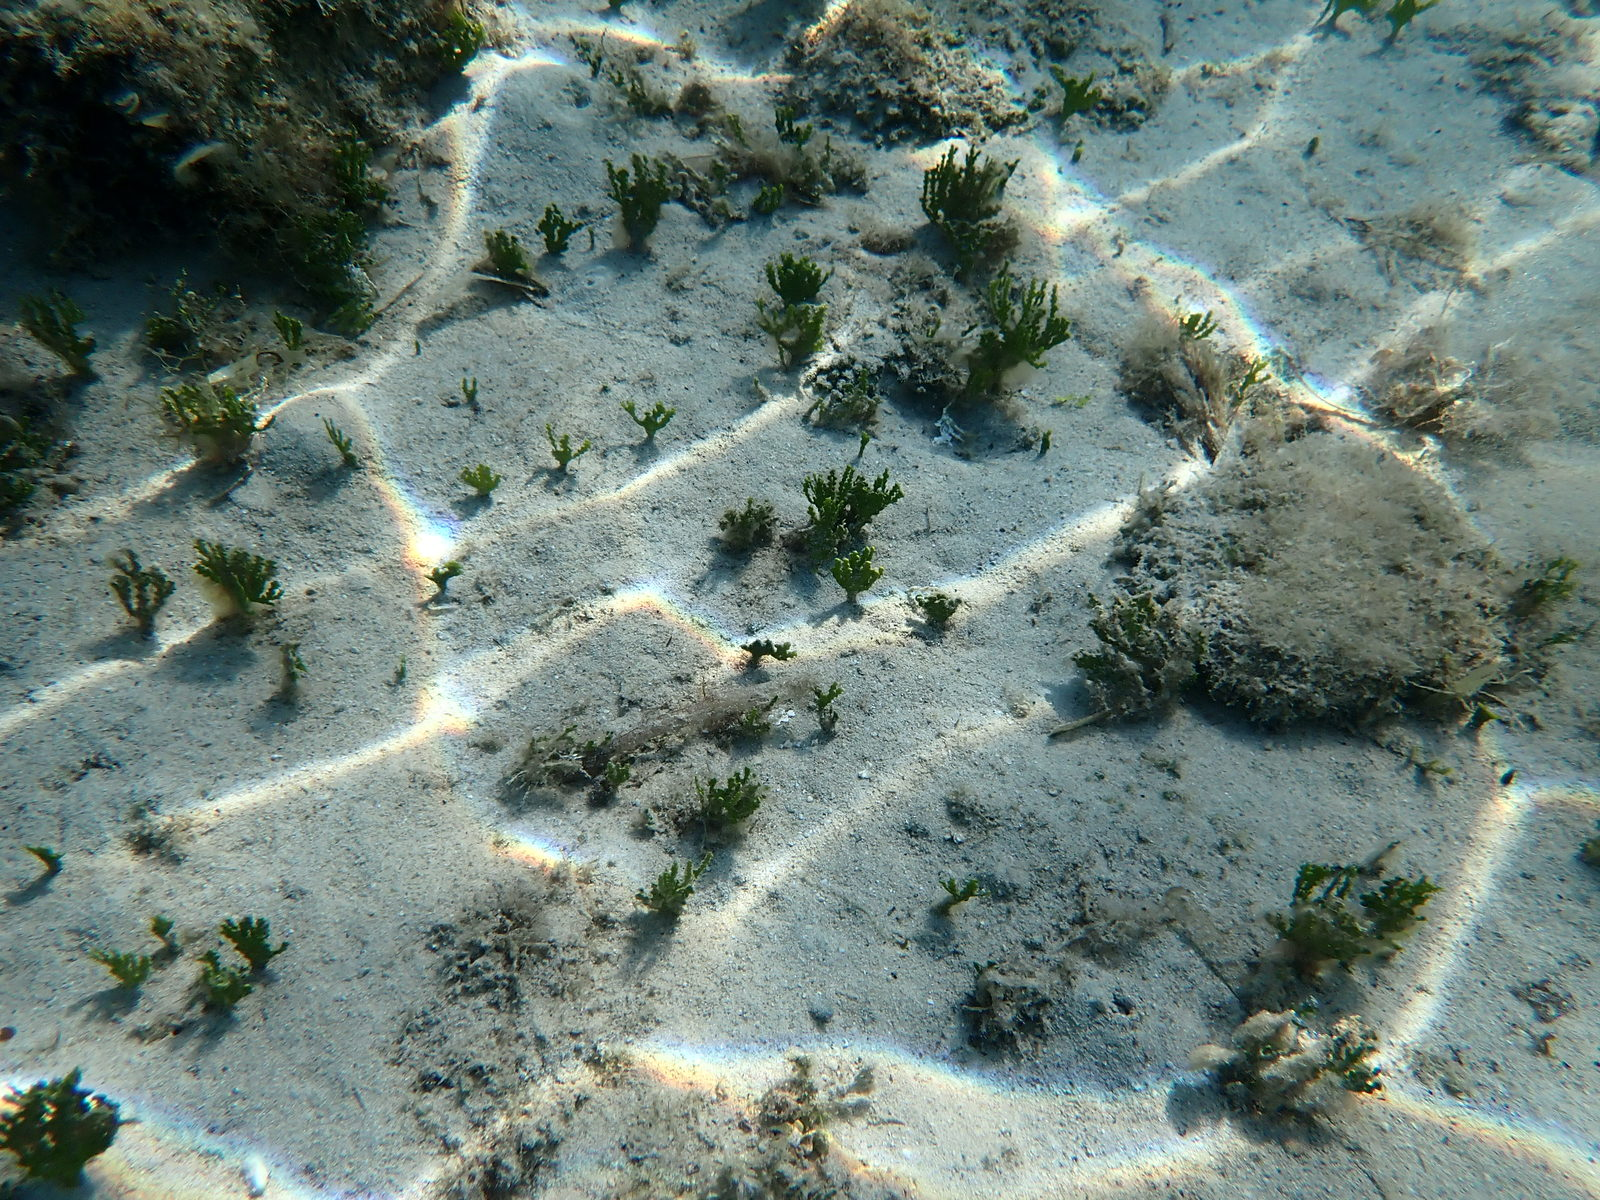halimeda: (1, 1063, 123, 1184), (160, 383, 278, 461), (989, 258, 1070, 373), (921, 141, 1022, 218), (194, 539, 286, 609), (803, 465, 905, 527), (110, 548, 170, 642), (1270, 906, 1373, 961), (606, 153, 666, 241), (753, 299, 831, 367), (690, 765, 769, 829), (806, 363, 882, 424), (1364, 872, 1437, 932), (649, 851, 714, 916), (1327, 1035, 1390, 1099), (941, 216, 1024, 263), (829, 546, 888, 608), (222, 914, 290, 964), (430, 8, 488, 66), (763, 253, 833, 301), (195, 950, 251, 1006), (535, 205, 585, 258), (1293, 861, 1362, 897), (616, 398, 677, 440), (544, 422, 593, 471), (100, 944, 152, 988), (1054, 71, 1099, 124), (480, 229, 527, 279), (1233, 355, 1275, 408), (1390, 1, 1437, 43), (775, 101, 814, 146), (743, 637, 799, 667), (806, 499, 847, 539), (1177, 309, 1222, 344), (721, 499, 777, 527), (465, 464, 500, 505), (325, 418, 354, 466), (915, 592, 964, 619), (940, 874, 991, 897), (598, 760, 630, 795), (275, 313, 304, 350), (31, 841, 64, 874), (432, 558, 460, 596), (281, 645, 305, 684), (750, 697, 777, 730), (755, 184, 785, 213), (813, 682, 845, 708), (149, 914, 176, 943), (1548, 556, 1579, 581), (1290, 998, 1324, 1020), (460, 376, 480, 407), (728, 111, 747, 142), (587, 50, 605, 79), (923, 318, 942, 340), (860, 431, 871, 460), (1043, 429, 1053, 456), (394, 662, 406, 683)
